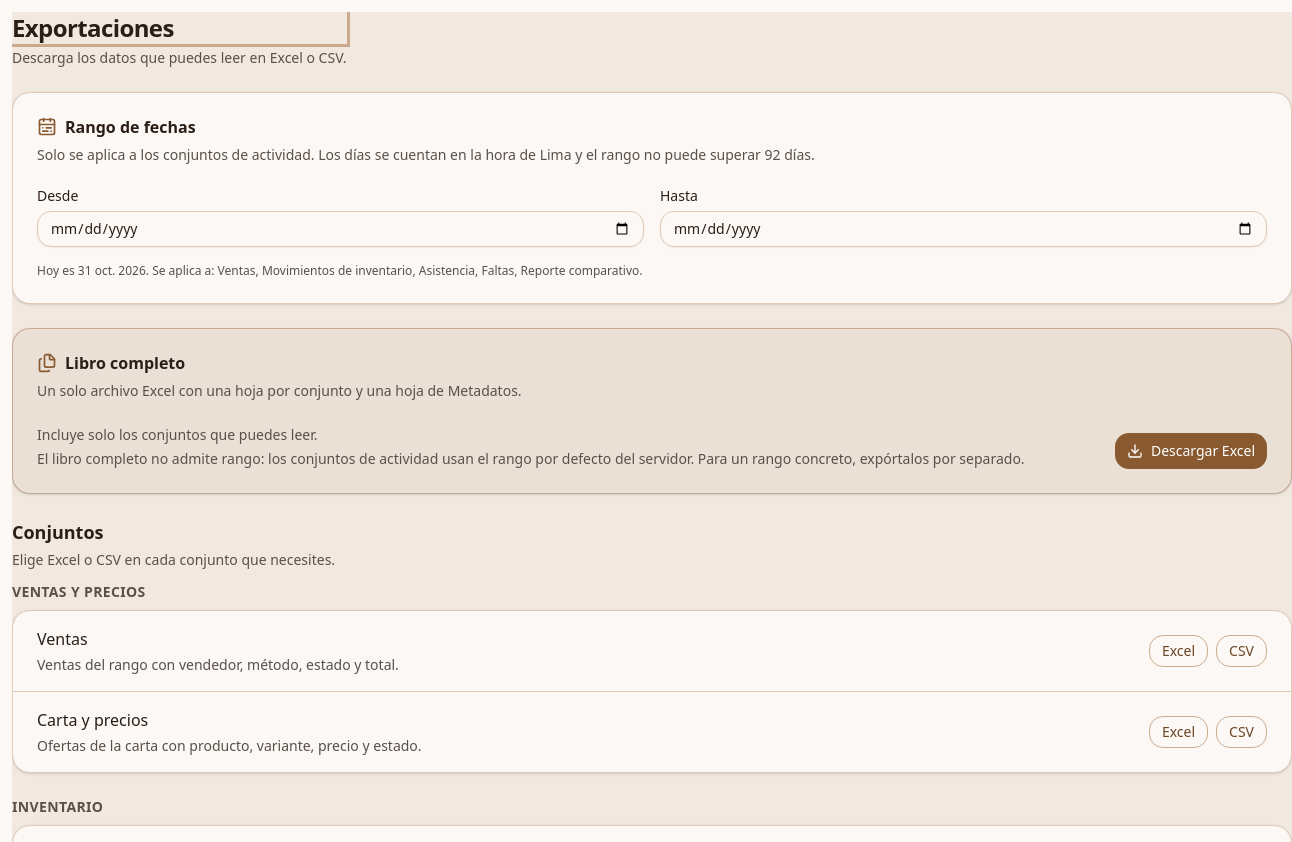
Test: ExportacionesPage en desarrollo (StrictMode) › Cancelar responde en menos de 1 s aunque la respuesta no termine
This screenshot has width=1292, height=842.
Expected: the heading "Exportaciones" is shown, x1=12 y1=12 x2=347 y2=44
Click the button "CSV" in the row of "Carta y precios": (1242, 732) x1=1216 y1=716 x2=1267 y2=748
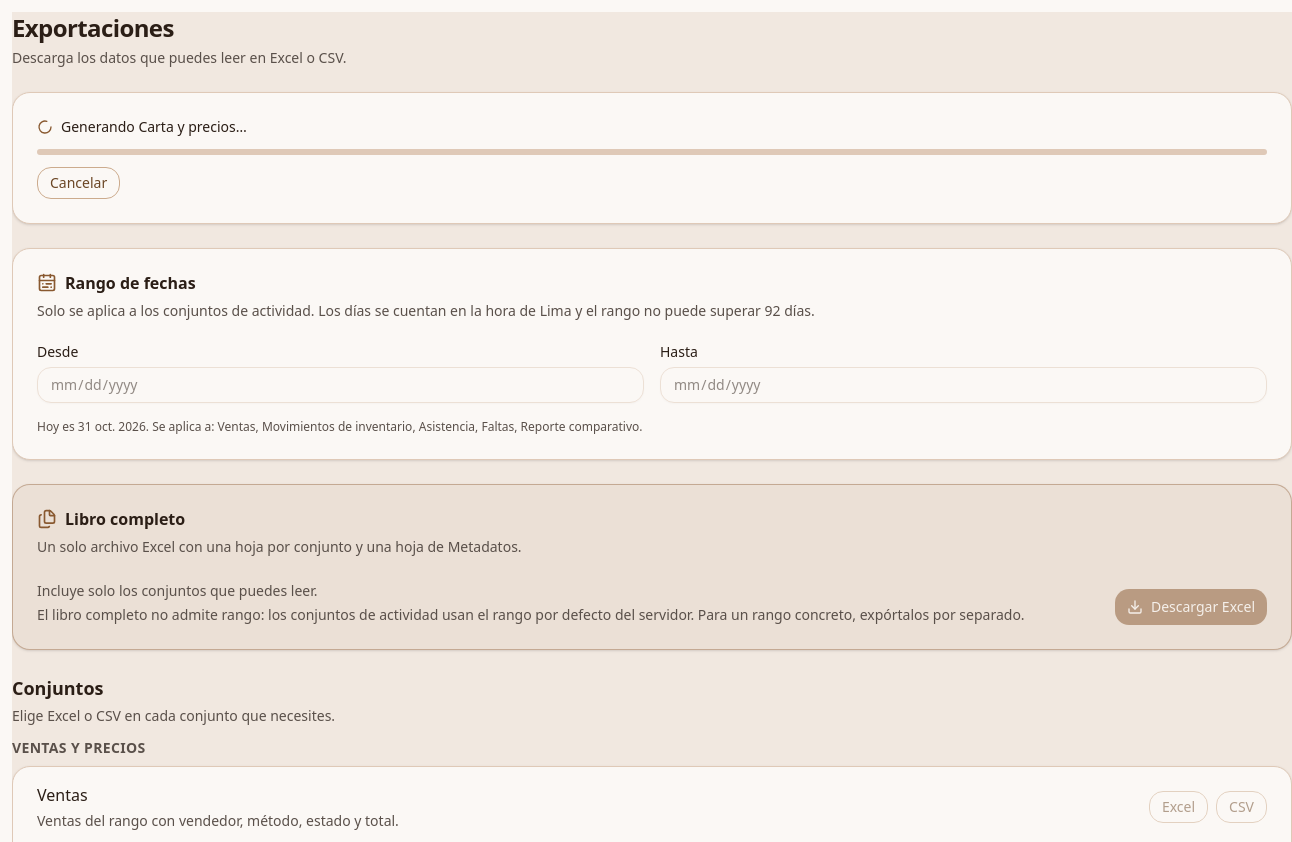
Expected: the progress indicator is shown, x1=37 y1=149 x2=1267 y2=155
Click the button with aria-label "Cancelar exportación": (79, 183) x1=37 y1=167 x2=120 y2=199
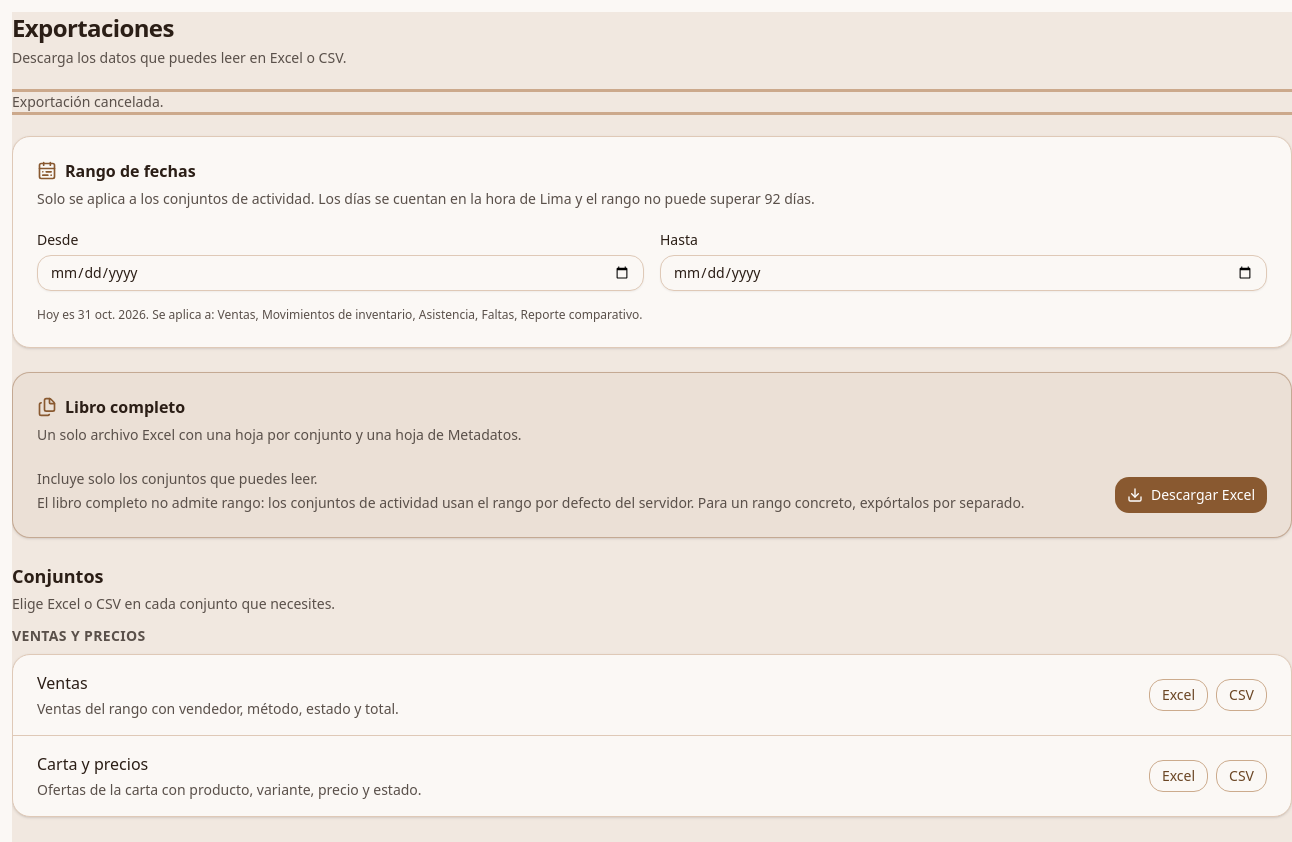
Expected: the text "Exportación cancelada." is shown, x1=12 y1=92 x2=1291 y2=112
Expected: the button with aria-label "Exportar Carta y precios a CSV" is enabled, x1=1216 y1=760 x2=1267 y2=792
